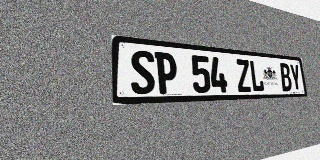4: (209, 57, 228, 93)
5: (191, 55, 211, 93)
B: (279, 63, 292, 91)
L: (249, 60, 265, 92)
P: (155, 52, 178, 94)
S: (130, 49, 156, 94)
Y: (289, 64, 302, 91)
Z: (235, 59, 252, 92)
